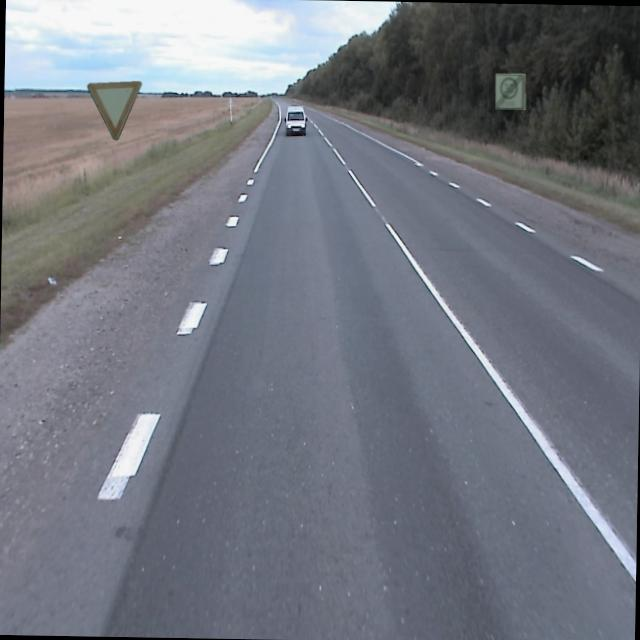road: (4, 97, 640, 640)
